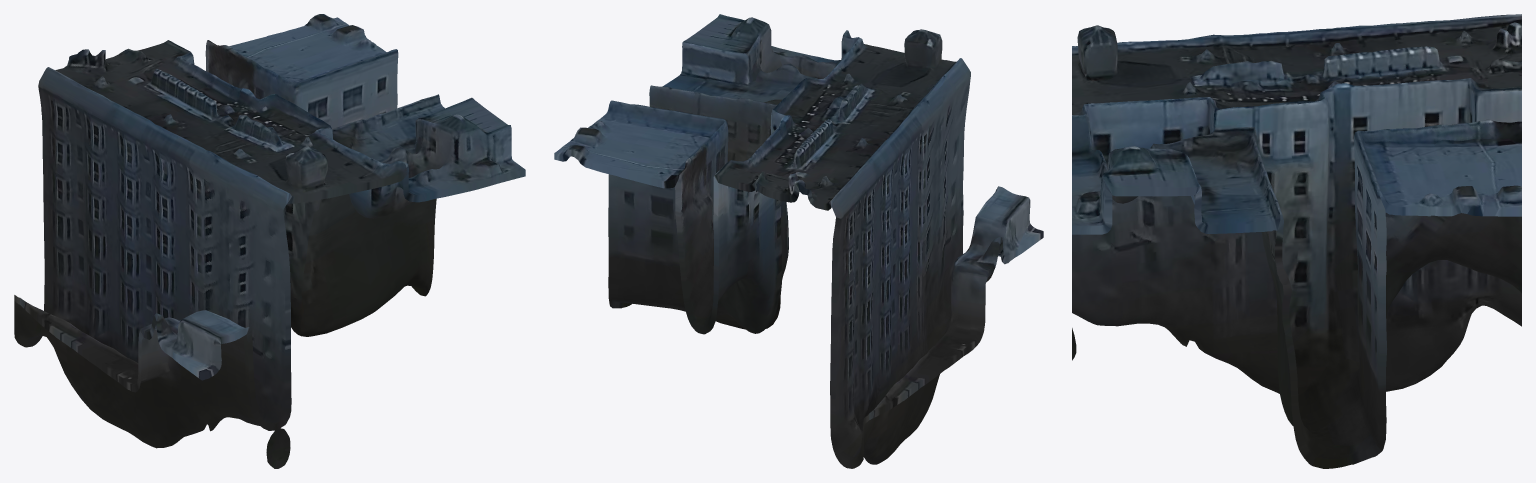
Rendered from z20-167750-405241-h0-yup-uvflip-v3-world.glb.
The picture shows the model from 3 angles, left to right: view 1: azimuth 30°, elevation 25°; view 2: azimuth 150°, elevation 25°; view 3: azimuth 270°, elevation 25°; orthographic projection. The views are drawn at different scales.
Bounding box in the file's own units: 30.16 × 30.6 × 30.32.
1 material, 1 textured.
